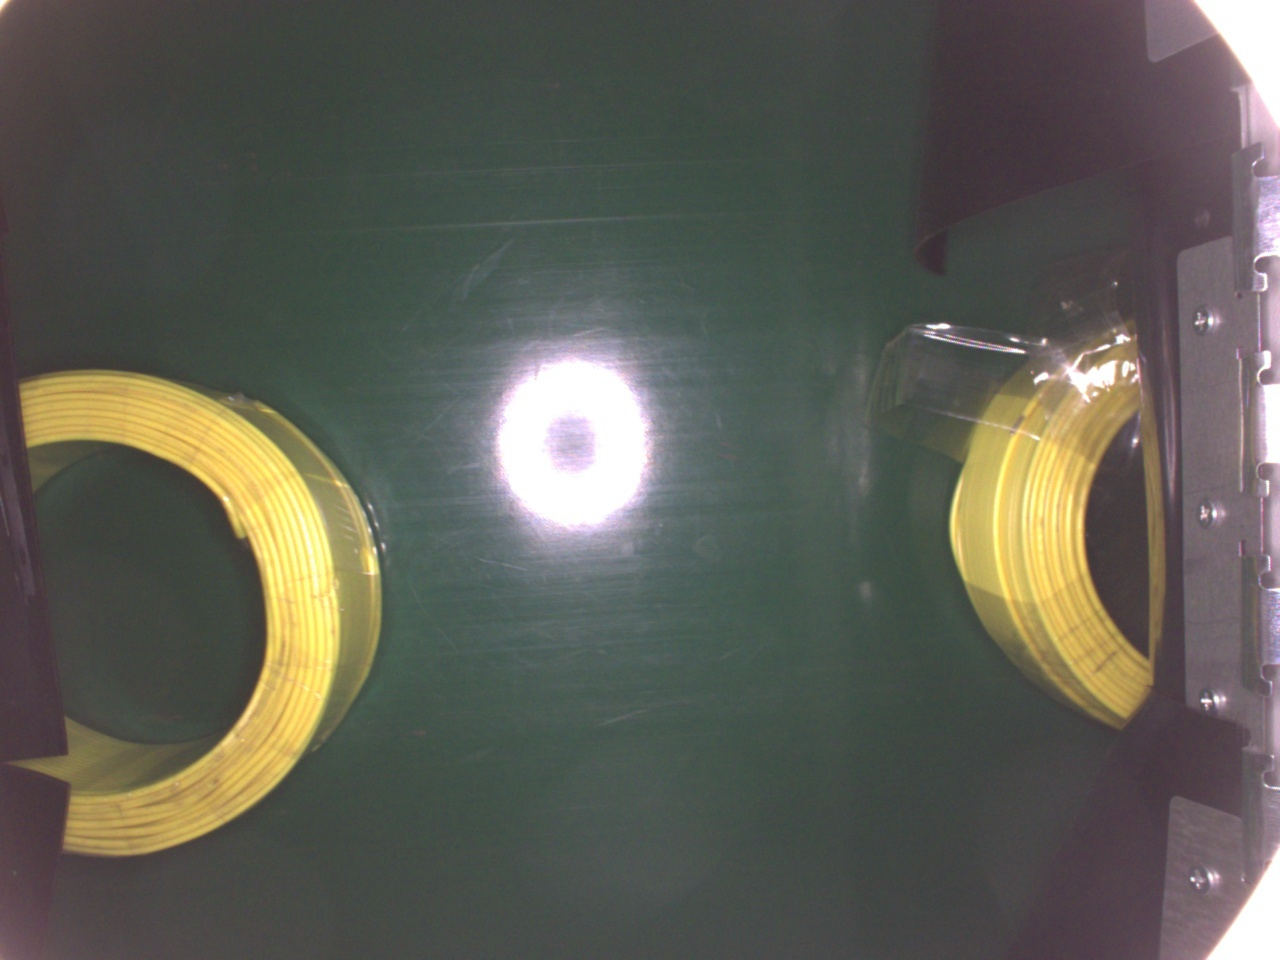yellow: (13, 363, 381, 841), (947, 326, 1155, 732)
